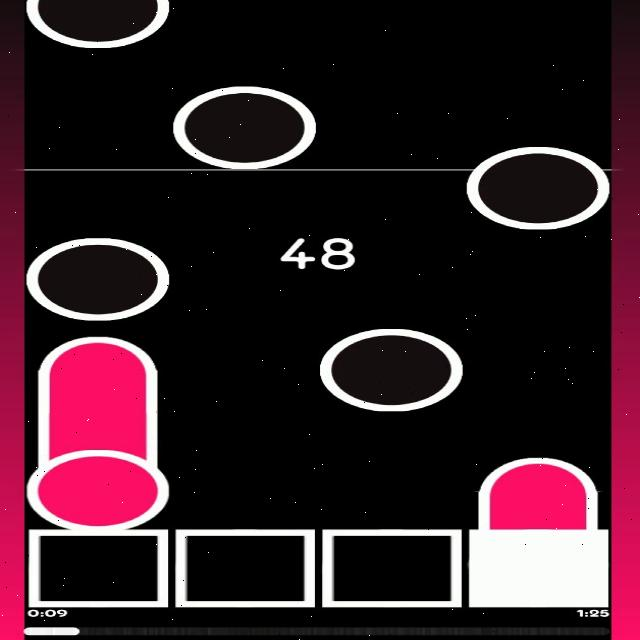end_hold: (36, 326, 160, 375), (479, 447, 601, 495)
note: (25, 232, 176, 324), (316, 323, 469, 413), (461, 145, 612, 233), (170, 83, 318, 169), (23, 1, 173, 49)
start_hold: (26, 438, 170, 534)
